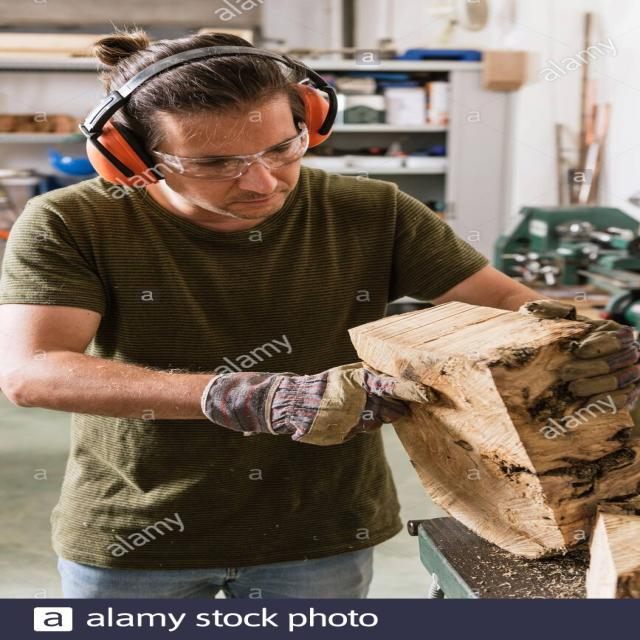Ear-protection: (62, 121, 164, 192), (292, 84, 345, 150)
glasses: (137, 126, 321, 177)
person: (15, 24, 529, 597)
